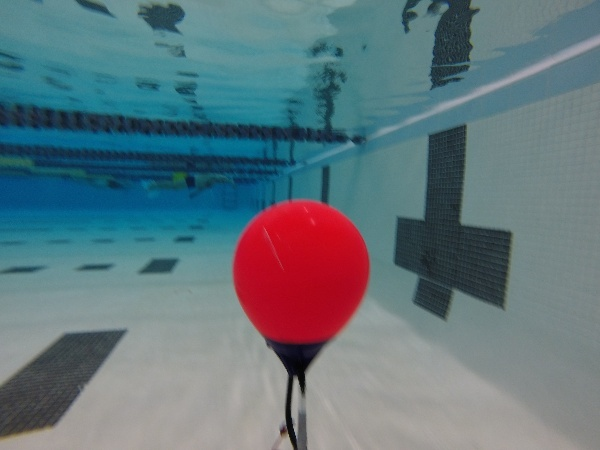buoy_red: (229, 197, 369, 379)
